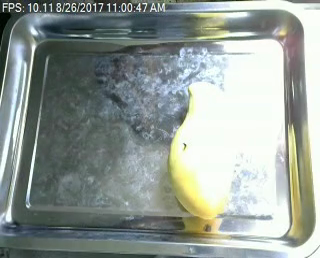Mango: (160, 82, 245, 219)
